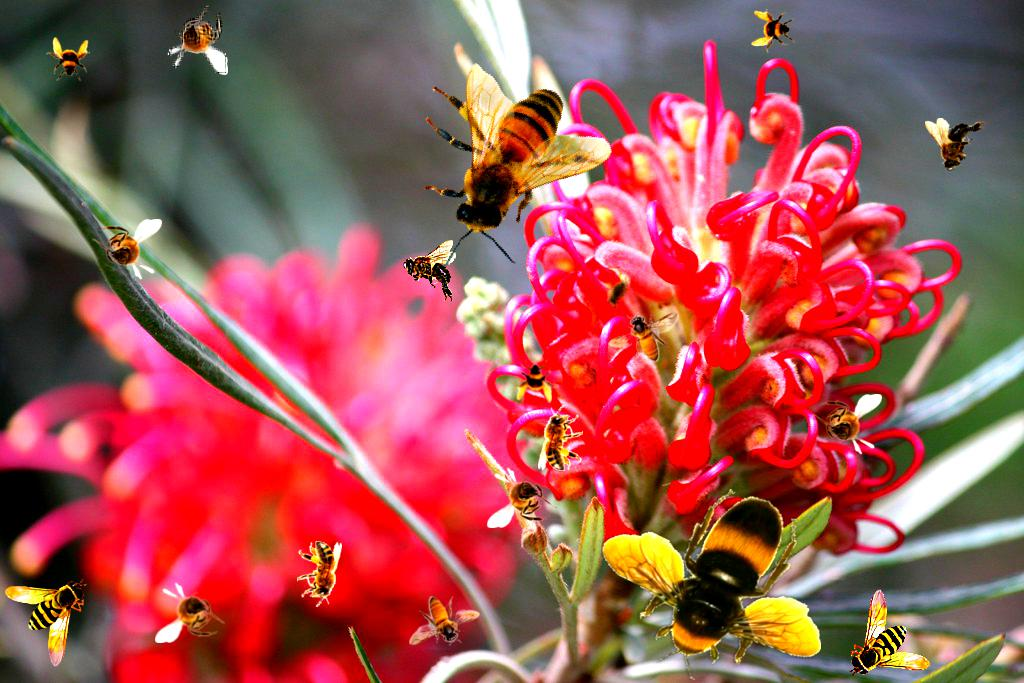Bee: (369, 25, 640, 295), (601, 489, 821, 680), (848, 589, 930, 677), (5, 579, 87, 667), (155, 582, 225, 643), (167, 5, 228, 75), (92, 219, 162, 280), (812, 394, 882, 455), (487, 467, 557, 528), (608, 312, 679, 362), (409, 596, 480, 646), (403, 240, 456, 302), (925, 118, 987, 171), (297, 541, 342, 607), (538, 405, 583, 471), (751, 9, 795, 53), (515, 359, 559, 403), (46, 37, 90, 81), (598, 270, 638, 316)
